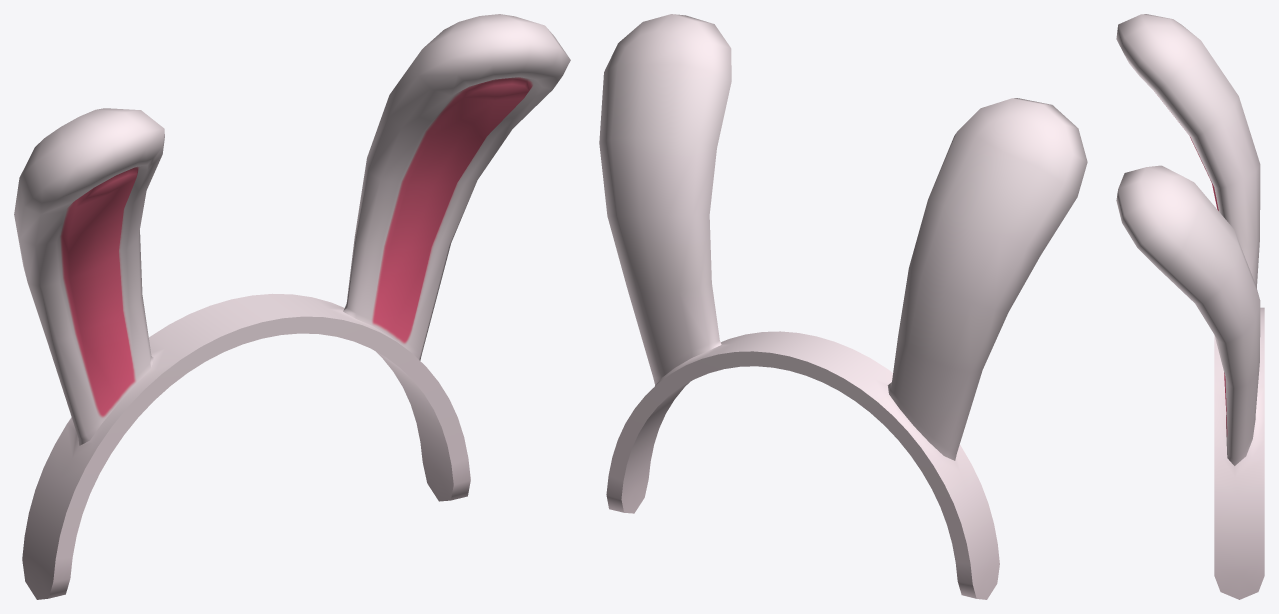
File: Hats_RabbitEar.fbx
3 renders of one model, left to right at view 1: azimuth 30°, elevation 25°; view 2: azimuth 150°, elevation 25°; view 3: azimuth 270°, elevation 25°, orthographic. The views are drawn at different scales.
Visible parts, largest first — view 1: RabbitEar; view 2: RabbitEar; view 3: RabbitEar.
Boxes of the visible parts, <box> form: RabbitEar: <box>14,14,570,599</box>; RabbitEar: <box>599,14,1087,599</box>; RabbitEar: <box>1116,14,1264,599</box>.
Size of the model in its own units: 40.16 by 37.43 by 11.94.
1 material, 1 textured.
